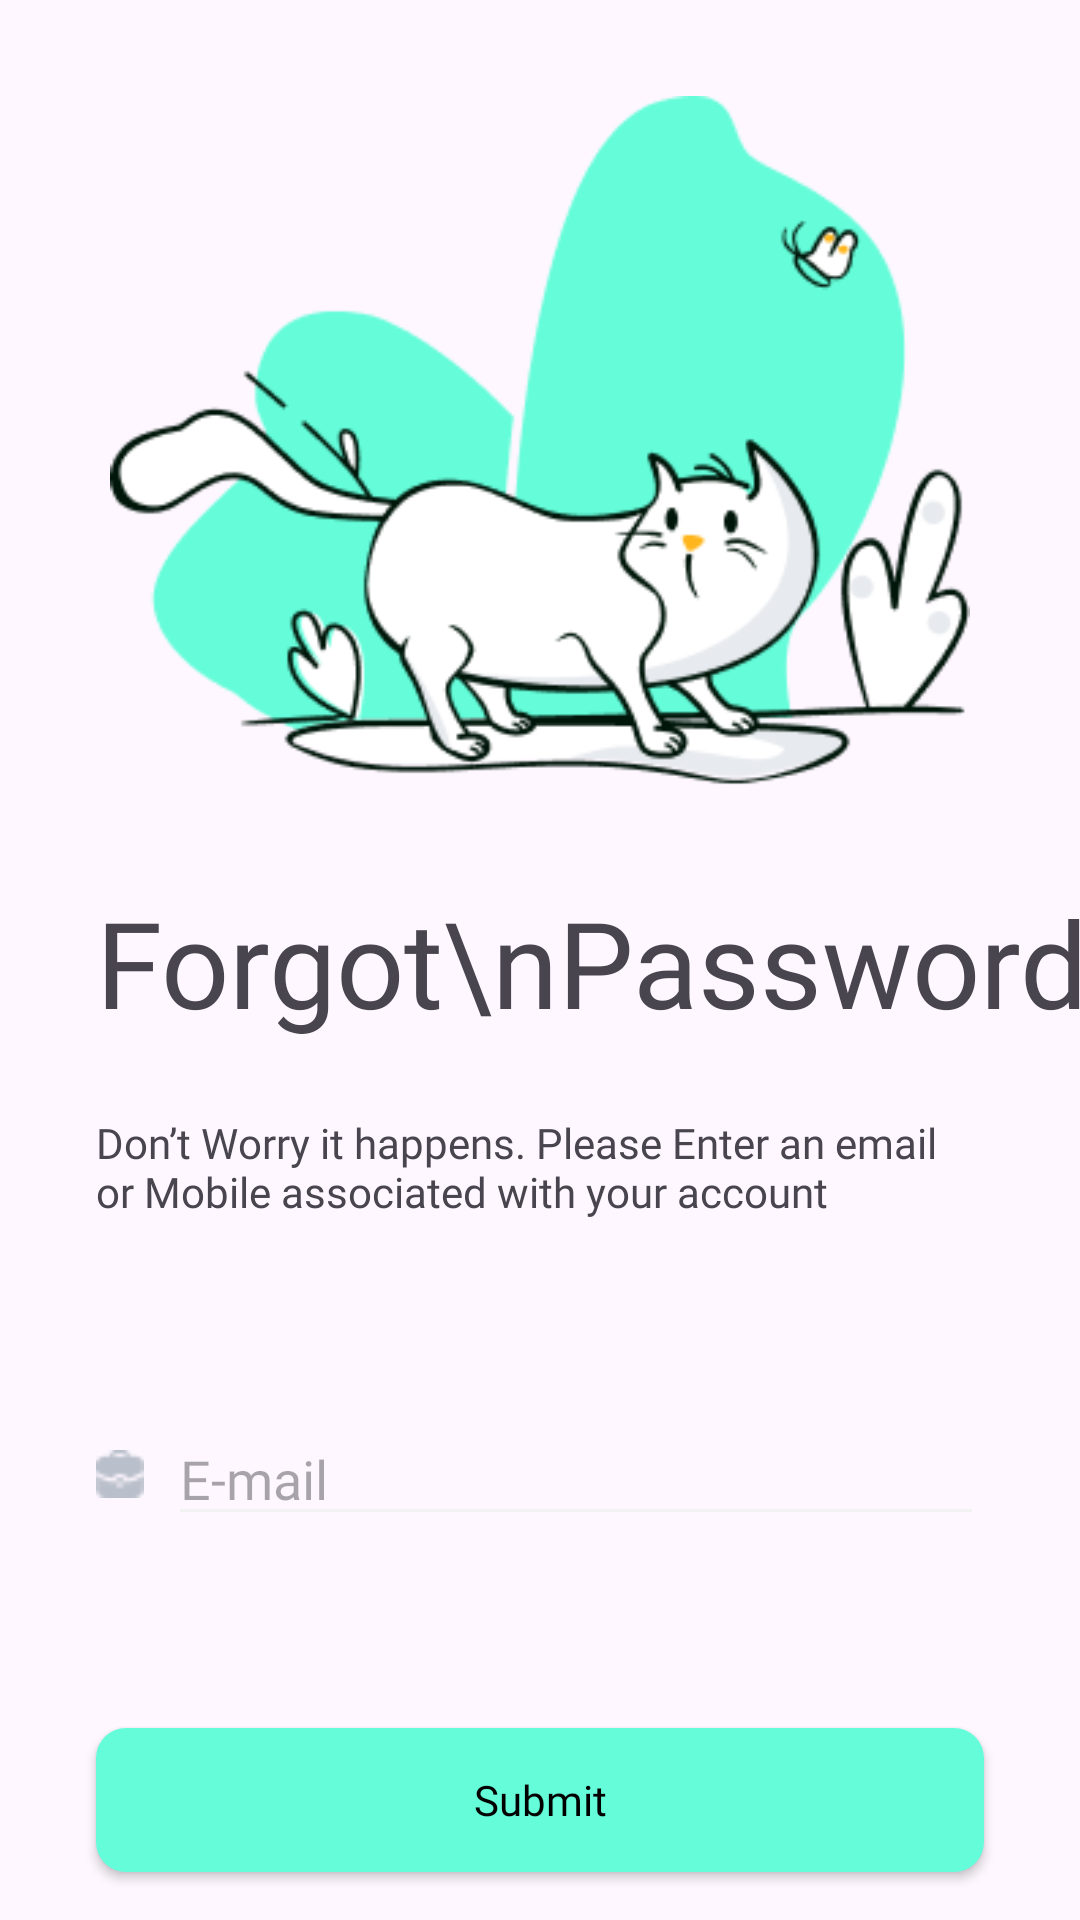

Icons on this 1080 x 1920 Android screen, each with its box as bbox=[x1, y1, x2, y2]:
work: bbox=[96, 1450, 144, 1498]
